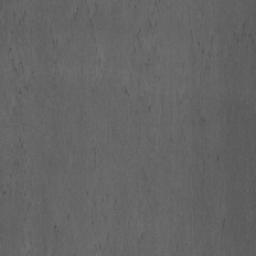Silk spot: (11, 59, 24, 73), (241, 21, 252, 37)
